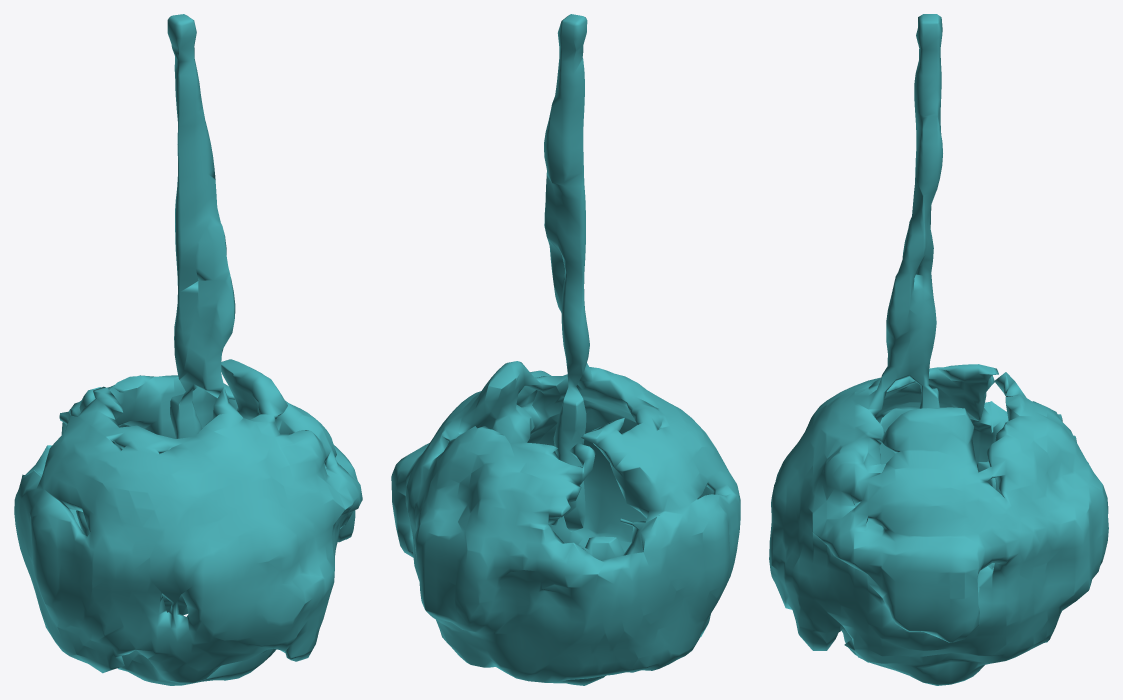
File: lamp_7_5.obj
The picture shows the model from 3 angles, left to right: view 1: azimuth 30°, elevation 25°; view 2: azimuth 150°, elevation 25°; view 3: azimuth 270°, elevation 25°; orthographic projection.
Bounding box in the file's own units: 0.402 × 0.7933 × 0.3854.
